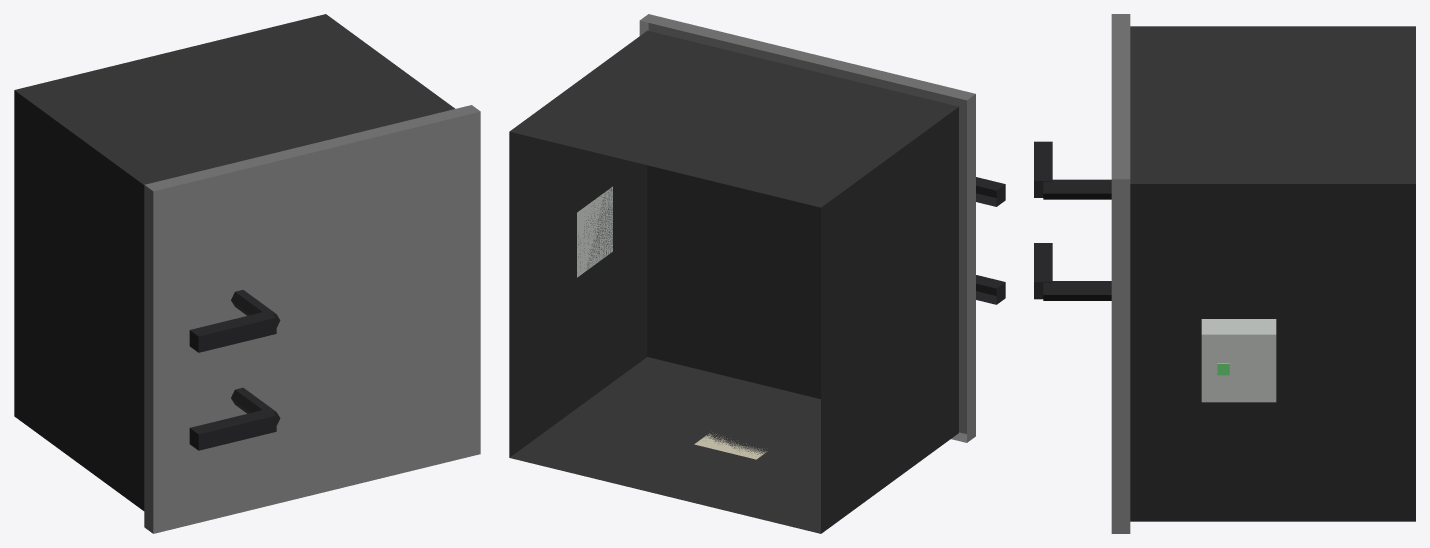
Rendered from a_flood_res.obj.
The picture shows the model from 3 angles, left to right: view 1: azimuth 30°, elevation 25°; view 2: azimuth 150°, elevation 25°; view 3: azimuth 270°, elevation 25°; orthographic projection. The views are drawn at different scales.
Bounding box in the file's own units: 0.679 × 0.63 × 0.615.
Materials: 1 (1 with a texture image).
